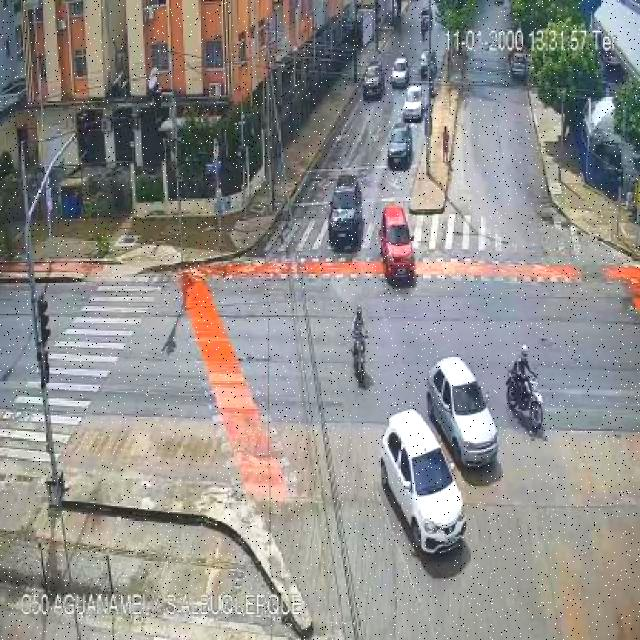car: (378, 408, 467, 554), (428, 356, 498, 472), (380, 206, 416, 280), (328, 172, 363, 243), (386, 126, 411, 166), (363, 63, 382, 97), (404, 86, 424, 117), (392, 56, 411, 86), (418, 50, 437, 74), (511, 53, 527, 76), (420, 8, 434, 28)
motorbike: (504, 344, 544, 438), (349, 304, 368, 390), (442, 124, 451, 164), (215, 182, 223, 225), (421, 14, 427, 40)
